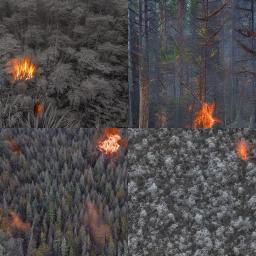Small fire: (190, 102, 218, 130), (98, 128, 125, 156), (9, 57, 35, 80), (235, 138, 251, 159), (33, 100, 44, 116)
